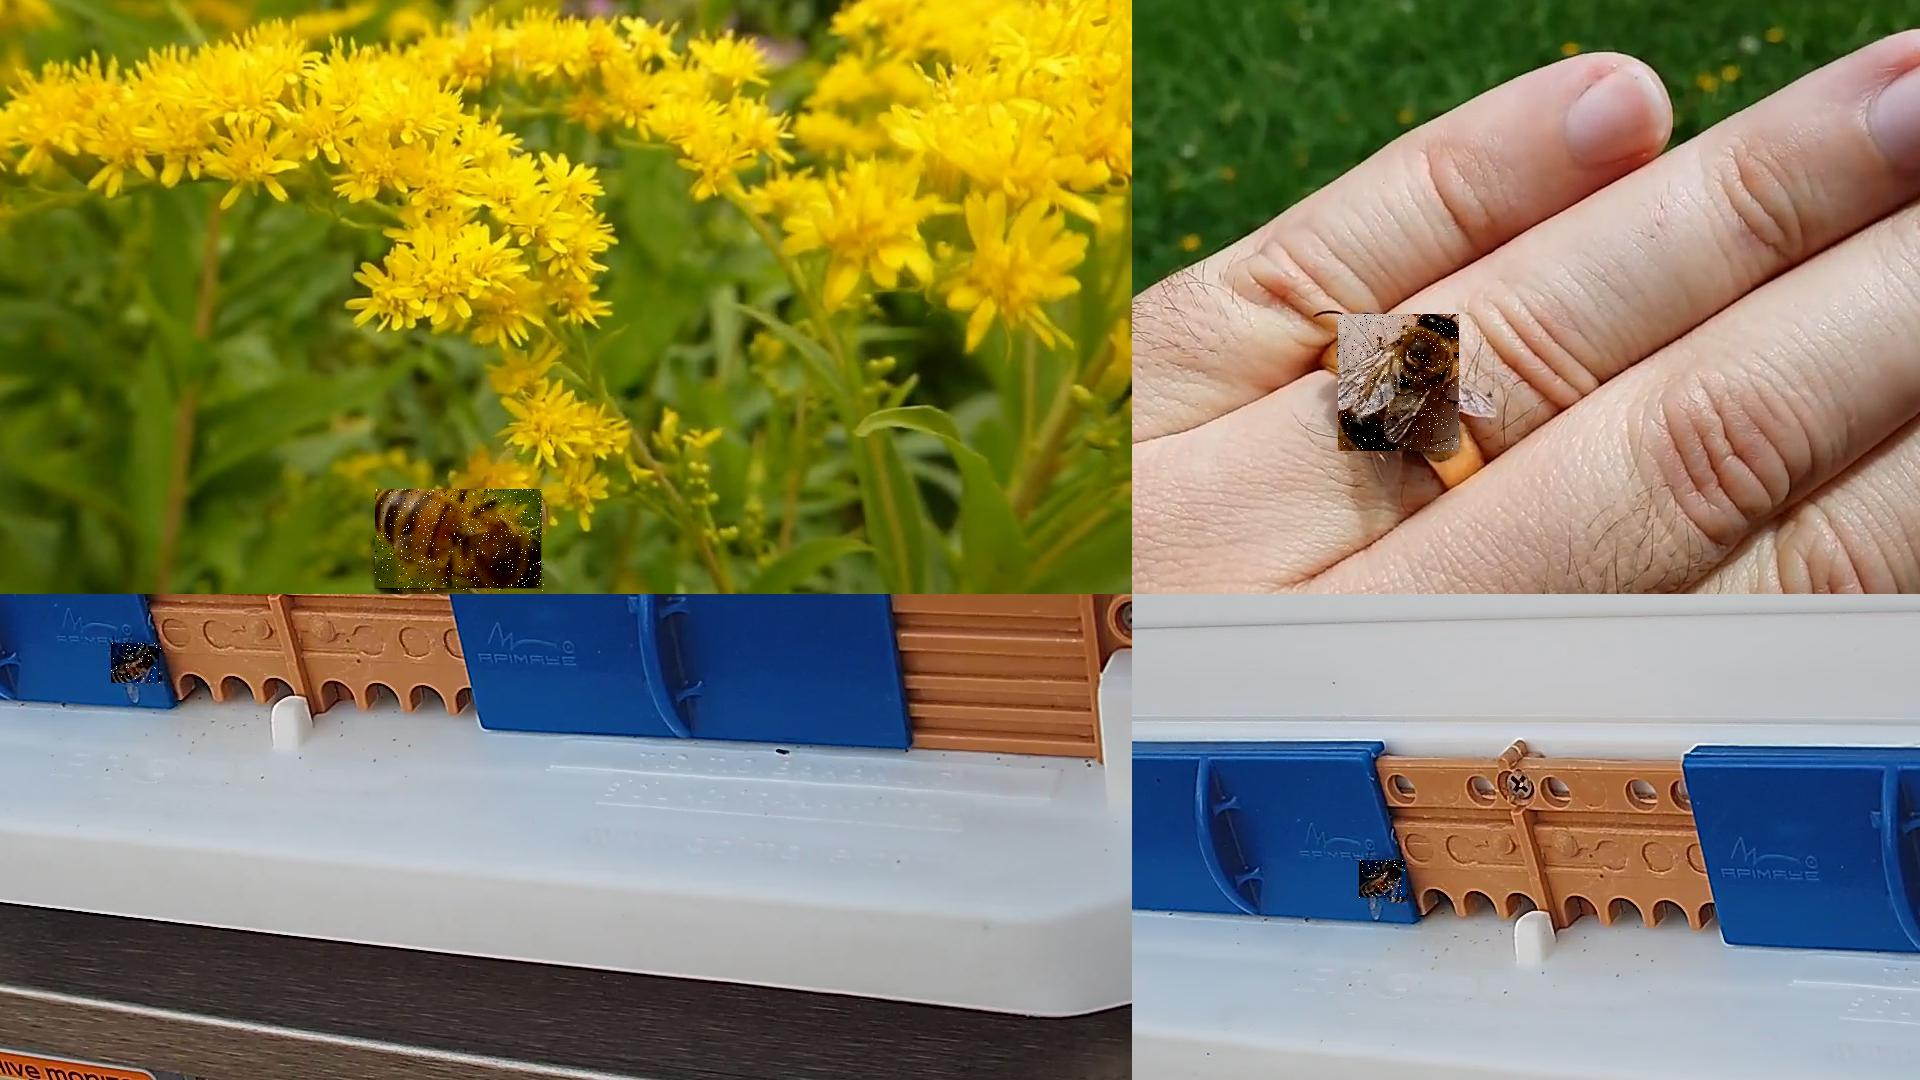bee: (376, 490, 546, 593), (112, 643, 163, 684), (1359, 861, 1407, 902)
drone: (1338, 314, 1460, 452)
